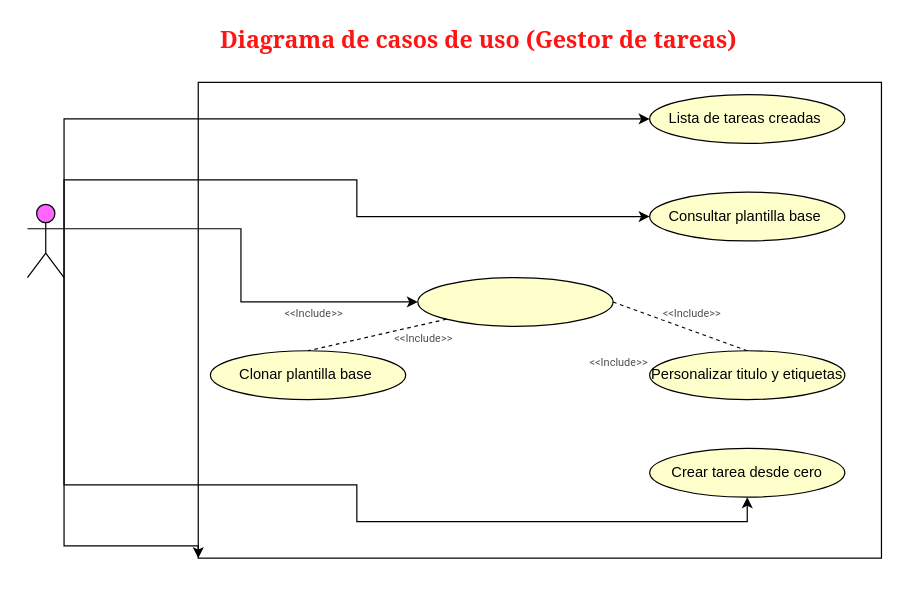
Some shapes in this 903 by 589 pixel diagram are drawn without their labels. The centre of each missing label's shape, as x and y in pixels:
Crear tarea desde plantilla: the point at 515,301
Usuario: the point at 45,240
